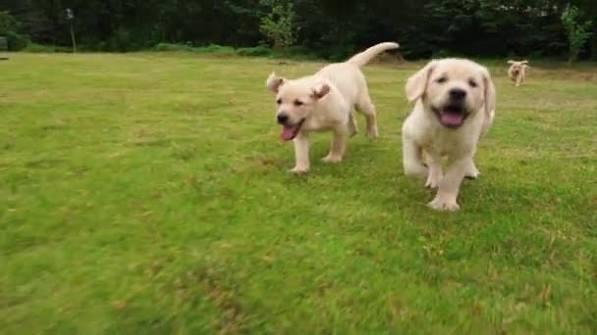puppy-dog: (266, 42, 402, 176), (402, 55, 497, 213), (508, 59, 530, 87)
